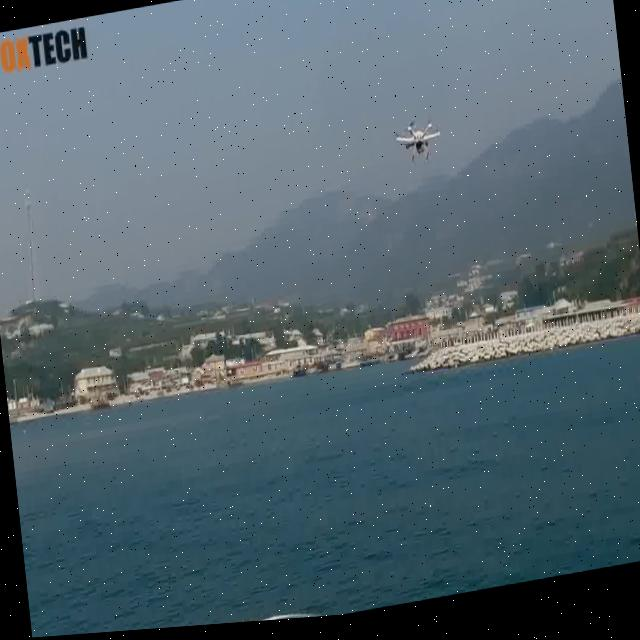drone: (393, 110, 452, 177)
